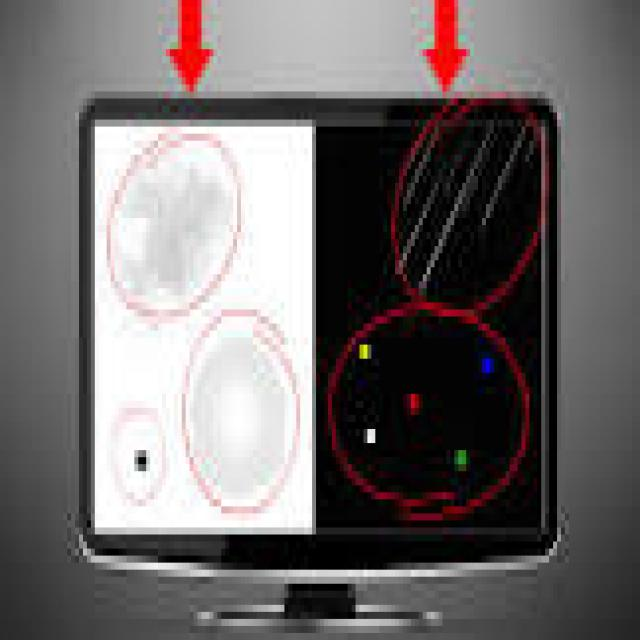dead_pixel: (131, 444, 153, 477), (405, 389, 424, 423), (481, 347, 496, 383), (454, 447, 472, 474), (358, 340, 375, 363), (366, 426, 378, 446)
scratch: (399, 112, 526, 307)
